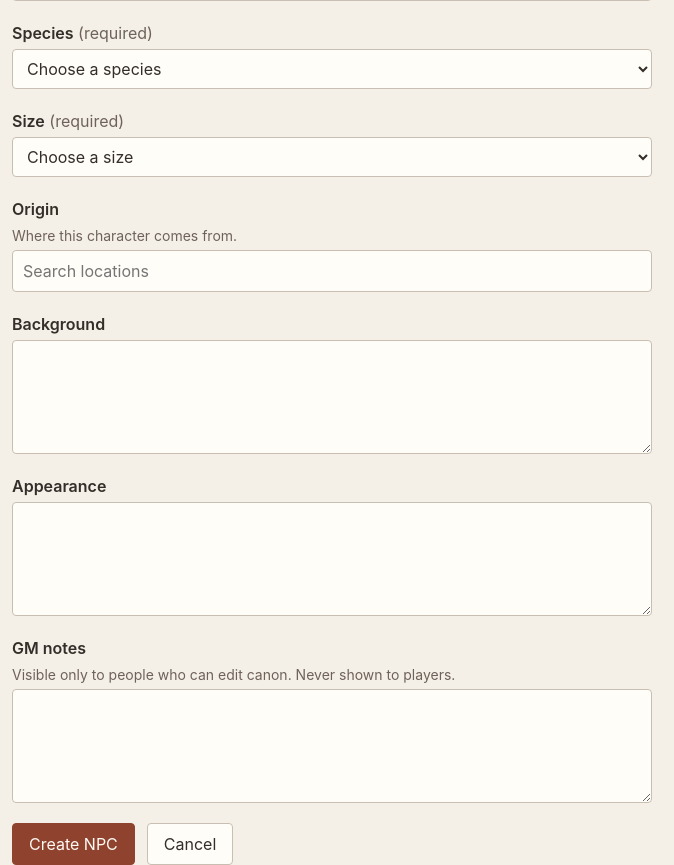
Test: CreateNpcPage › requires a name, a species, and a size before sending anything
(page scrolled)
Expected: the dropdown labelled "Species (required)" is shown, x1=12 y1=49 x2=652 y2=89
What coordinates should you click on to do the following:
click the button "Create NPC"
I would click on:
 (73, 844)
Its box is x1=12 y1=823 x2=135 y2=864.
(page scrolled)
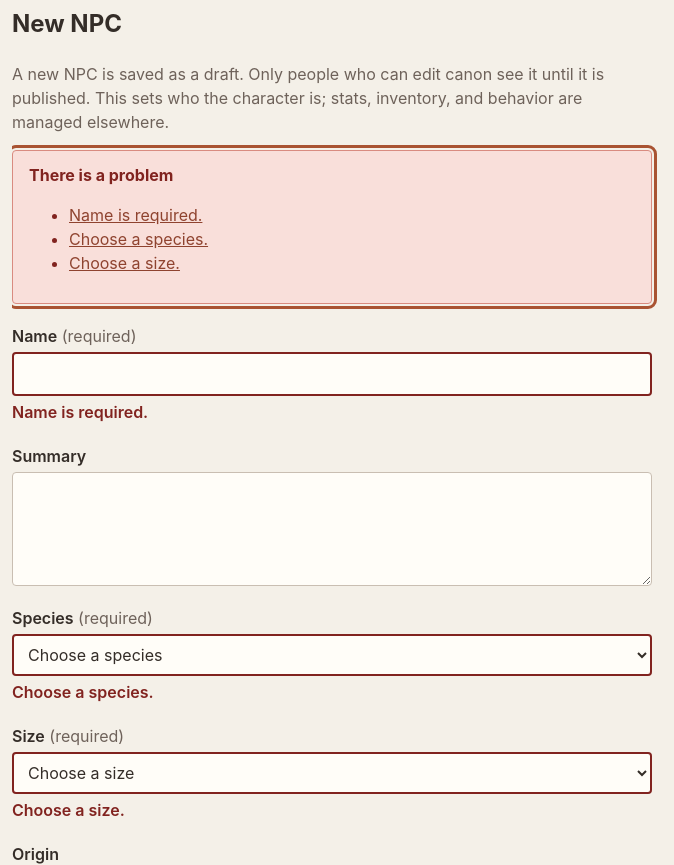
Expected: the message shows "Name is required.", x1=69 y1=205 x2=202 y2=225
Expected: the message shows "Choose a species.", x1=69 y1=229 x2=208 y2=249
Expected: the message shows "Choose a size.", x1=69 y1=253 x2=180 y2=273
